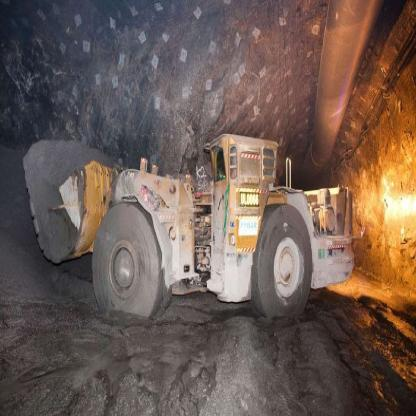bull_dozer/loader/grader: (25, 106, 374, 339)
